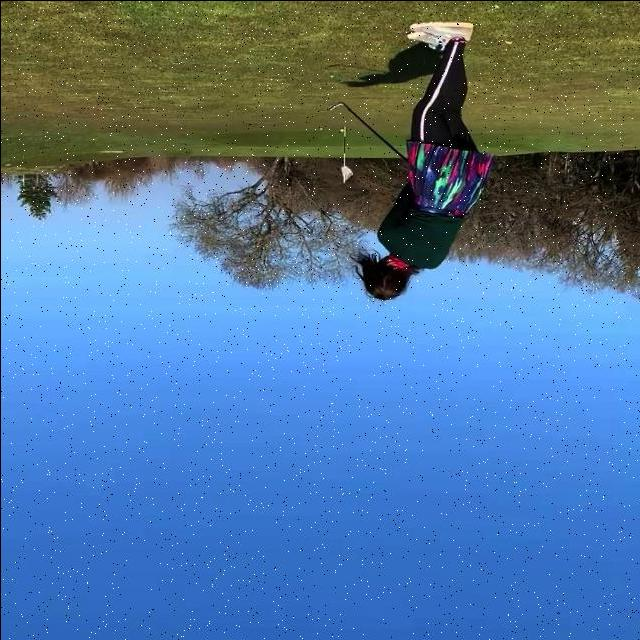golf ball: (339, 127, 343, 132)
golf club-handle: (325, 100, 411, 165)
golf club-head: (326, 102, 339, 110)
